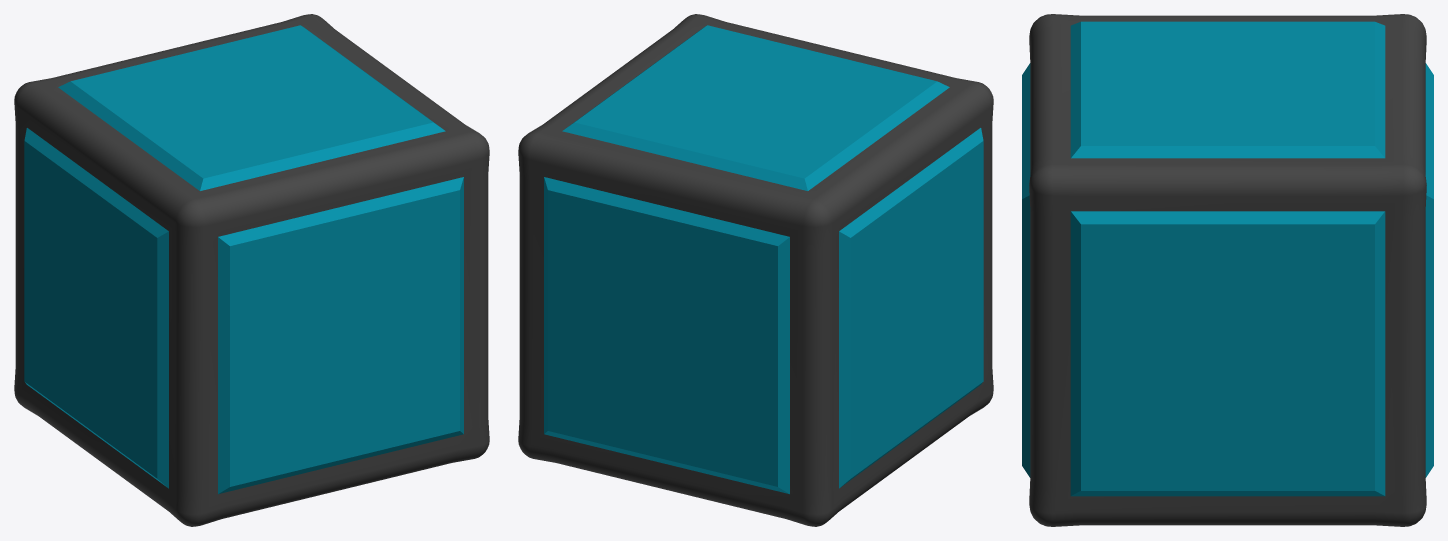
Rendered from Answer-cube.fbx.
3 renders of one model, left to right at view 1: azimuth 30°, elevation 25°; view 2: azimuth 150°, elevation 25°; view 3: azimuth 270°, elevation 25°, orthographic. The views are drawn at different scales.
Visible parts, largest first — view 1: pCube1; view 2: pCube1; view 3: pCube1.
Boxes of the visible parts, x1,y1,x2,y2 form: pCube1: (14,14,489,526); pCube1: (518,14,993,526); pCube1: (1022,14,1433,526).
Bounding box in the file's own units: 1 × 1 × 1.
